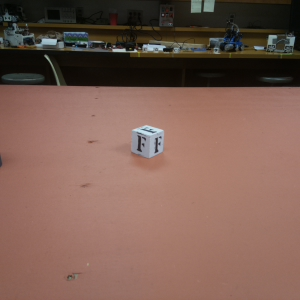blockF: (131, 123, 164, 159)
